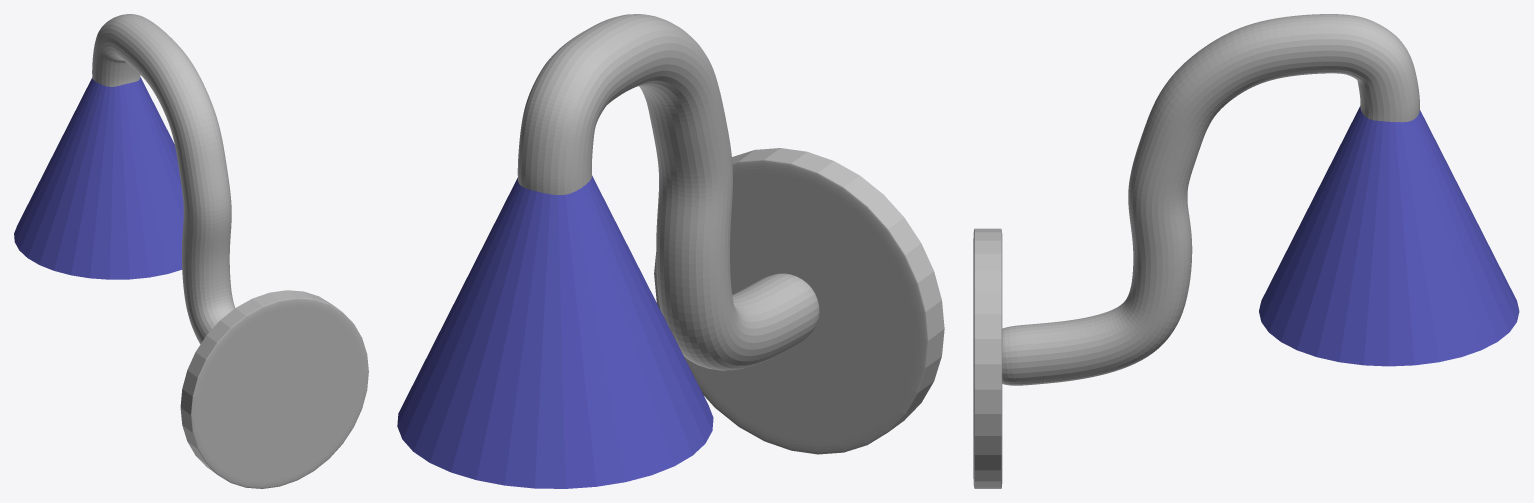
Rendered from BasicWandLamp1.fbx.
3 views of the same model, side by side, from view 1: azimuth 30°, elevation 25°; view 2: azimuth 150°, elevation 25°; view 3: azimuth 270°, elevation 25° (orthographic). The views are drawn at different scales.
Visible parts, largest first — view 1: LampHolder, Lamp; view 2: LampHolder, Lamp; view 3: LampHolder, Lamp.
Part boxes in pixels (left/top/right/bottom): LampHolder: left=92, top=14, right=368, bottom=488; Lamp: left=14, top=77, right=183, bottom=279; LampHolder: left=517, top=14, right=944, bottom=454; Lamp: left=397, top=175, right=713, bottom=488; LampHolder: left=973, top=14, right=1419, bottom=488; Lamp: left=1259, top=106, right=1519, bottom=366.
Bounding box in the file's own units: 419 × 389 × 200.
